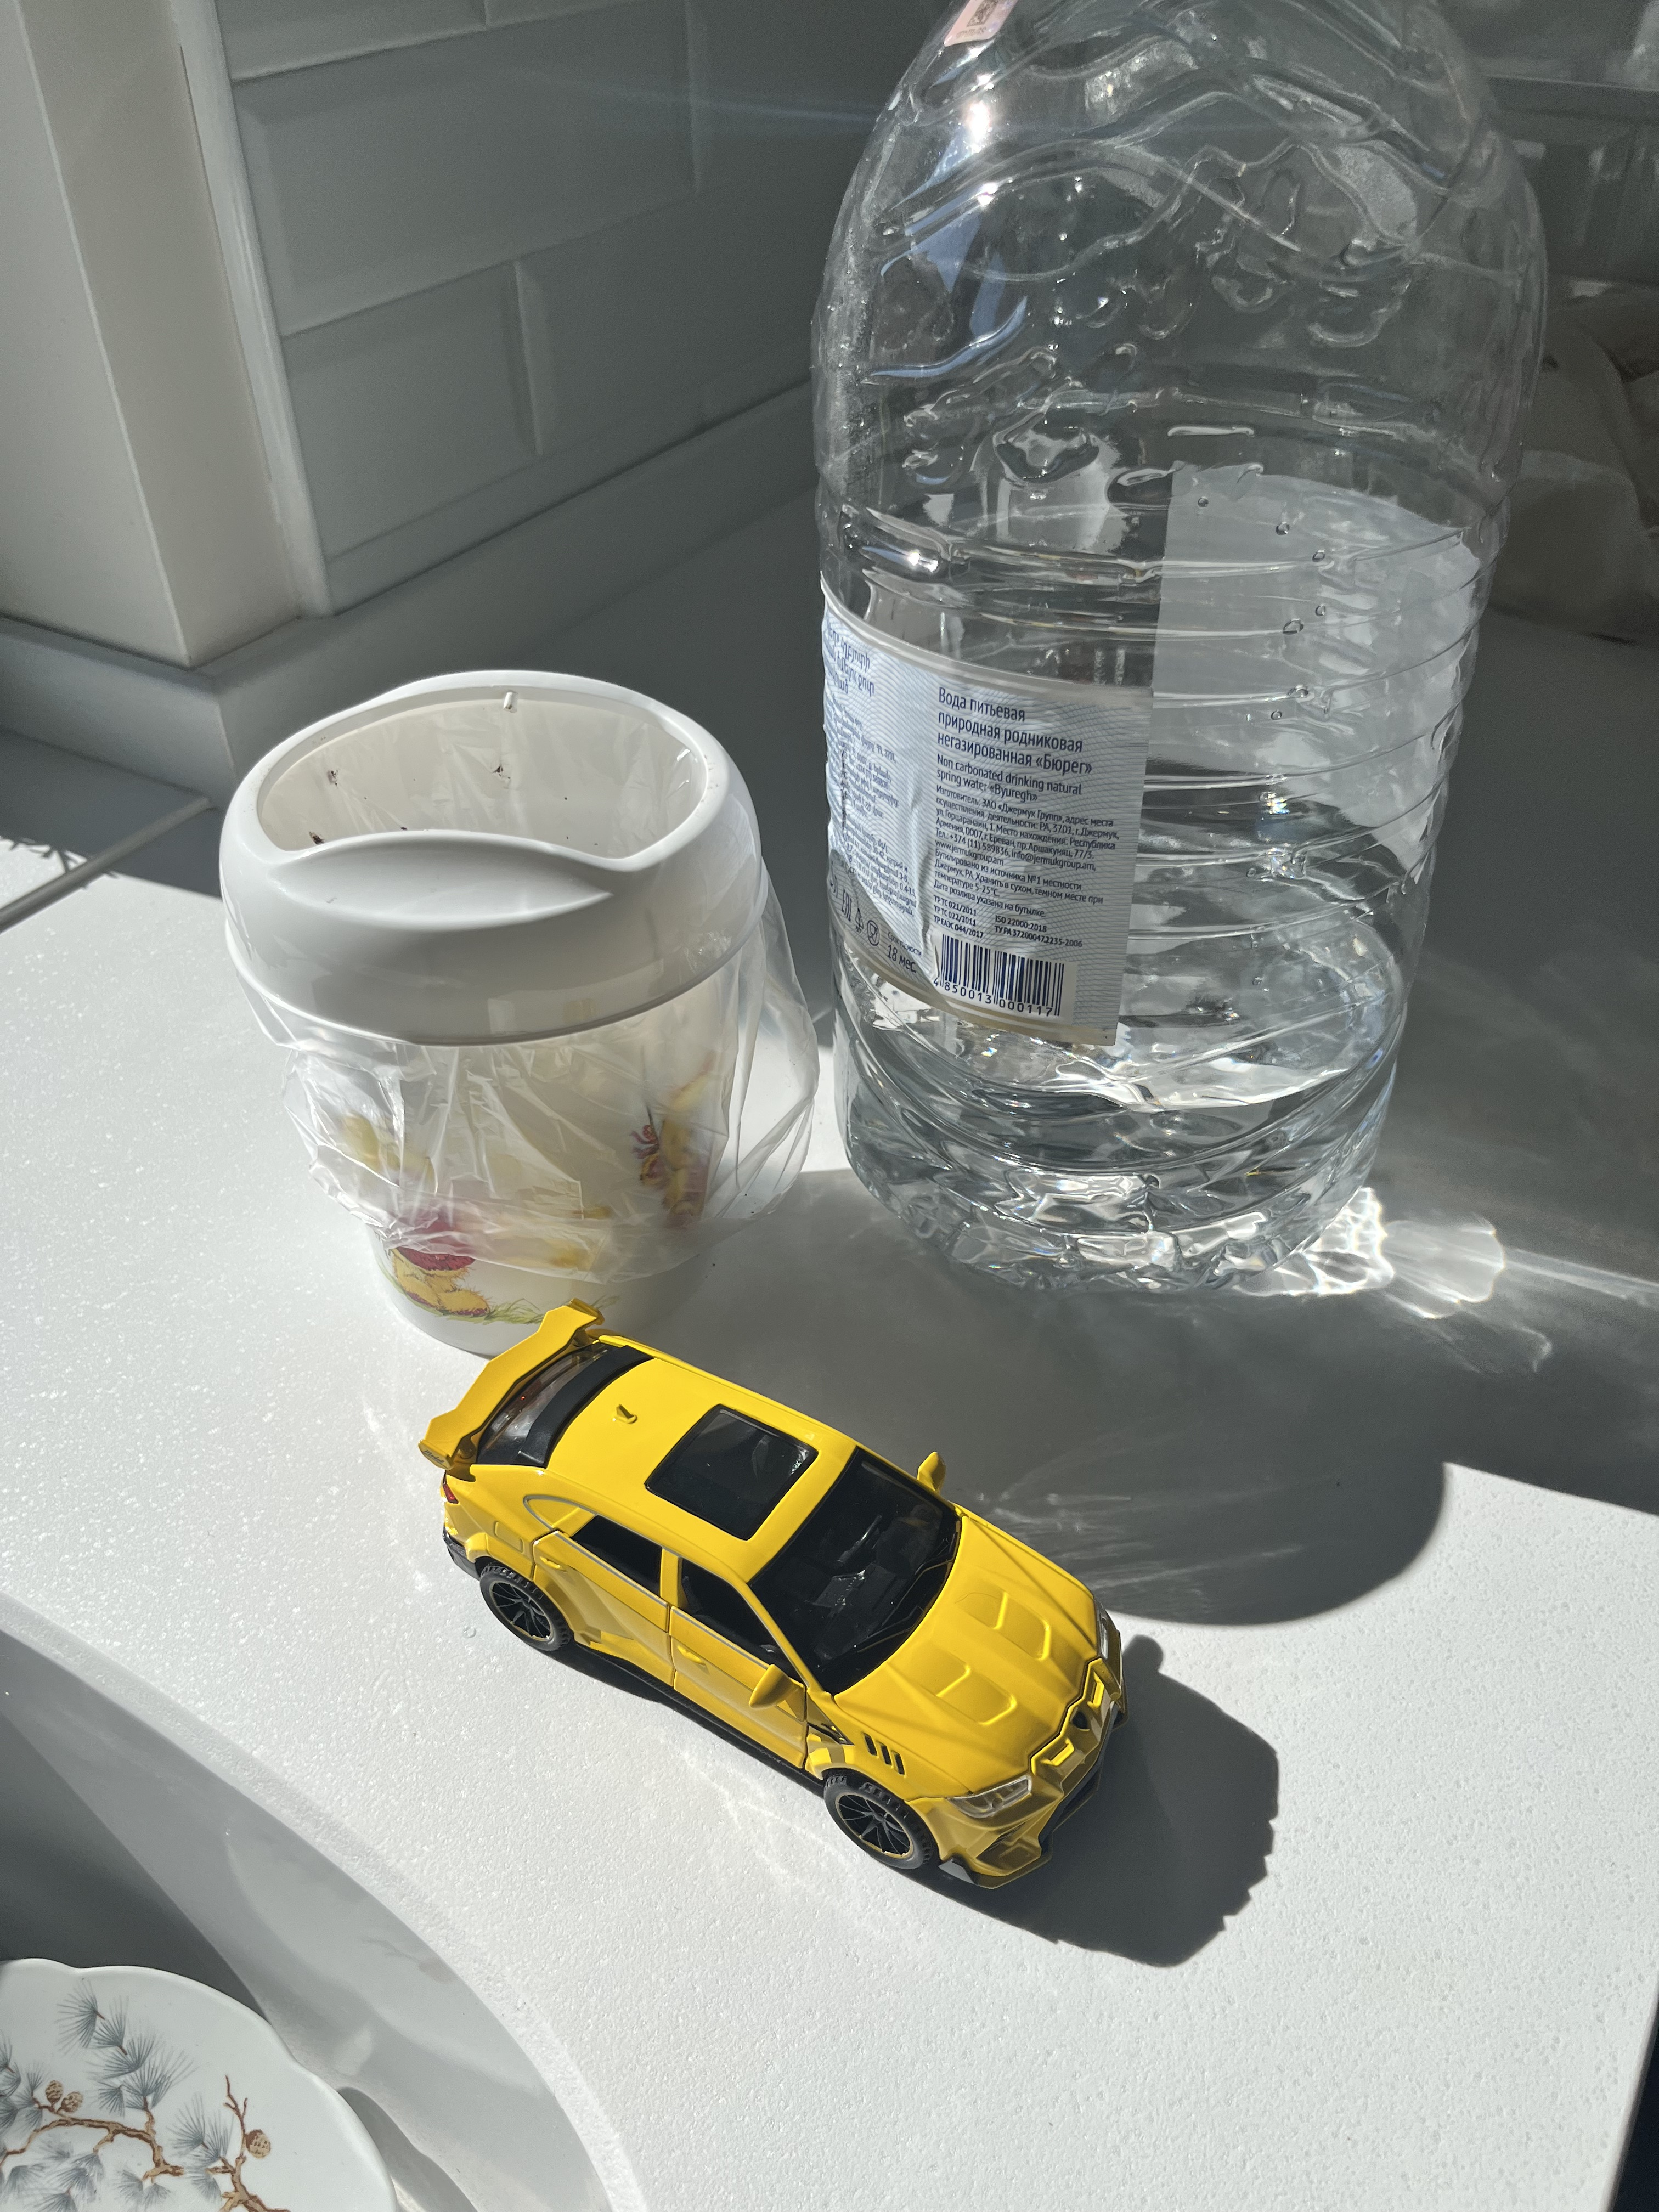lambo: (413, 1294, 1136, 1909)
